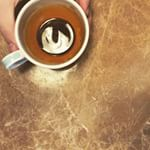cups: (1, 1, 92, 74)
